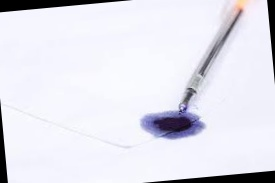ink: (143, 111, 204, 137)
